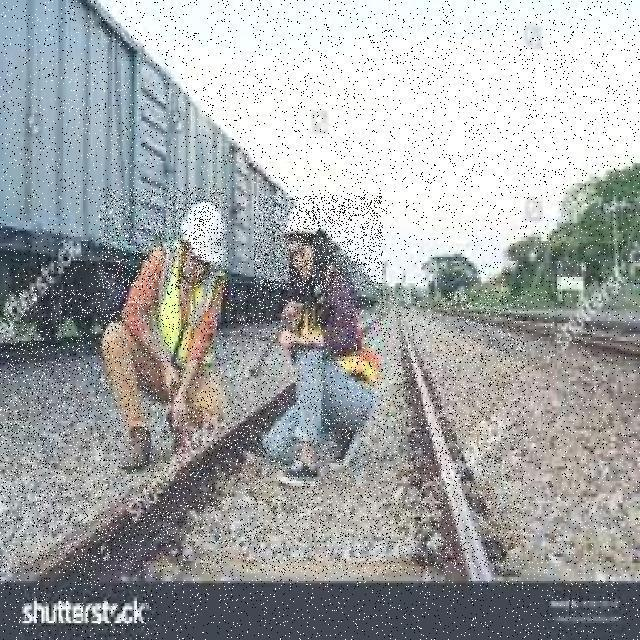danger: (254, 196, 383, 492), (99, 189, 228, 477)
rail: (0, 290, 526, 573)
